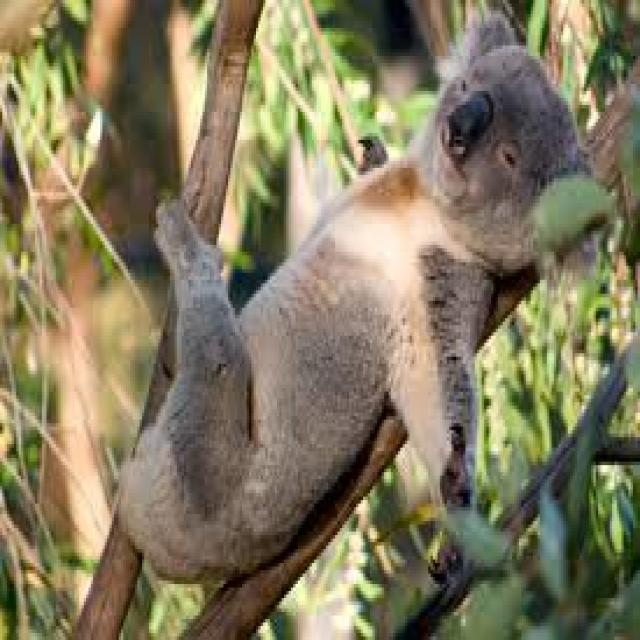Koala: (117, 16, 589, 576)
